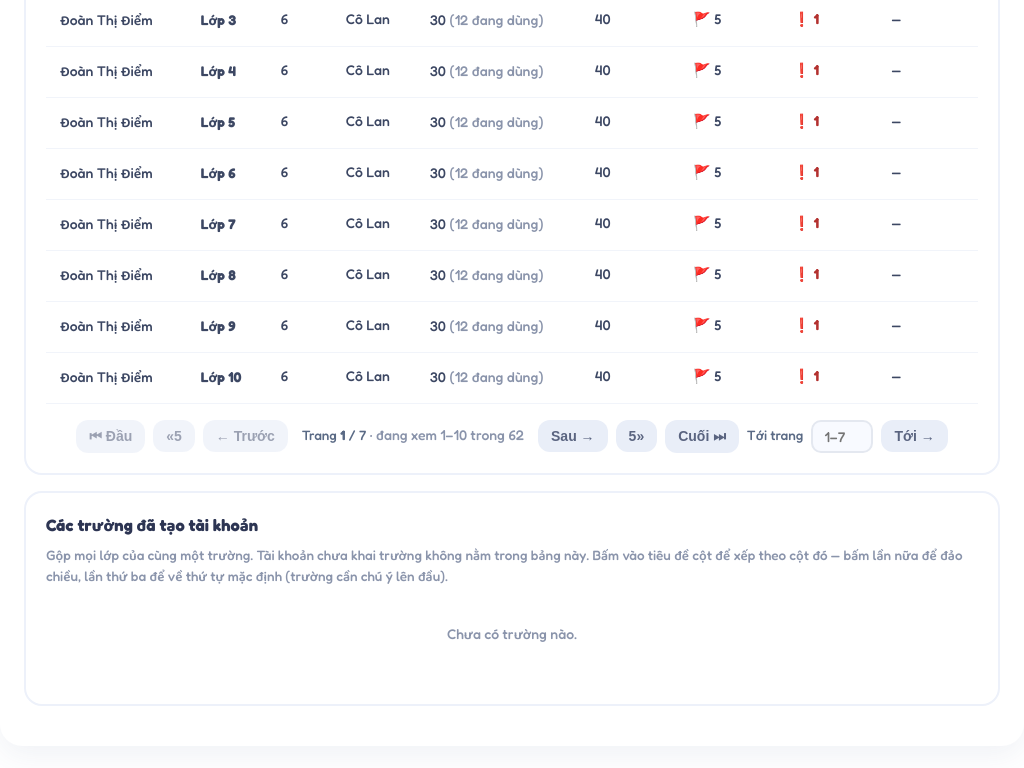
bảng lớp hiện 10 dòng mỗi trang và dùng hàng phân trang chung
(page scrolled)
Check: the text "Trang 1 / 7 · đang xem 1–10 trong 62" is shown, box [302,425,524,447]
Check: the button with aria-label "Về trang đầu" is shown, box [76,420,145,453]
Click the button with aria-label "Sau — 10 lớp tiếp theo" at point(573, 436), box [538,420,608,452]
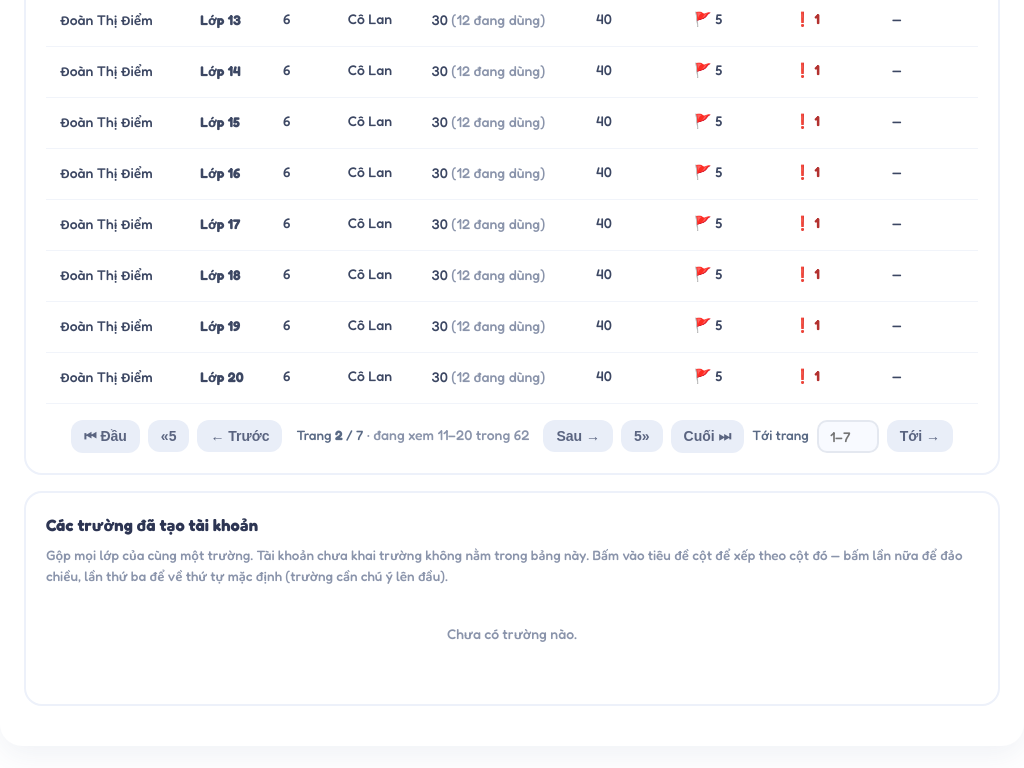
Check: the button named "Tiến 5 trang" is shown, box [621,420,663,452]
Check: the text "Trang 2 / 7 · đang xem 11–20 trong 62" is shown, box [296,425,530,447]
